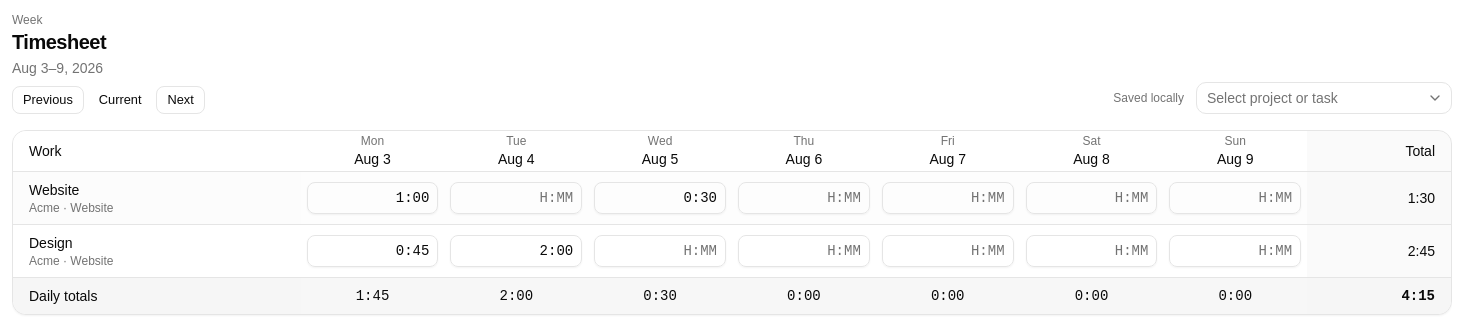
Test: previews valid drafts in row, day, and grand totals before commit
Replace the text in the field named "Acme · Website · Mon Aug 3" with "2:00" at [372, 198], box x1=307 y1=182 x2=438 y2=214
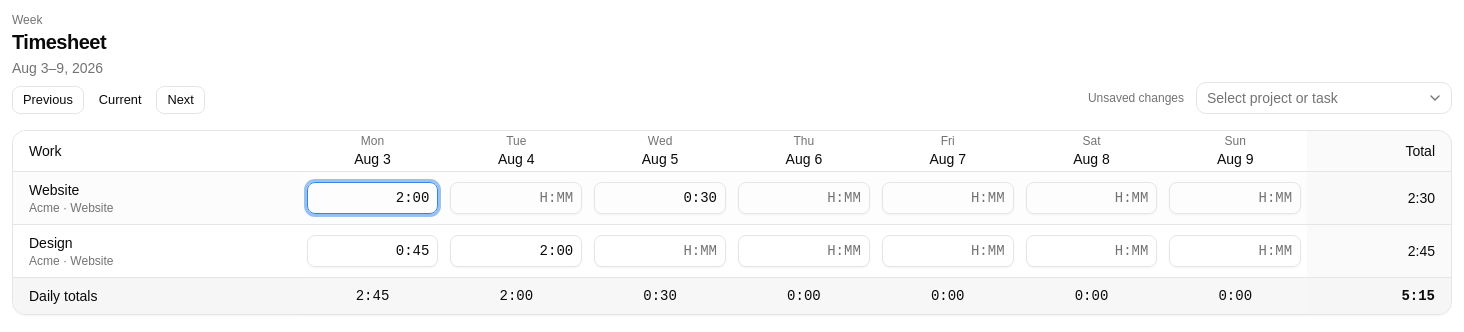
Now the text "2:30" is shown, box x1=1307 y1=171 x2=1451 y2=224
Now the cell "2:45" in the row of "Daily totals" is shown, box x1=356 y1=288 x2=389 y2=304
Now the cell "5:15" is shown, box x1=1307 y1=277 x2=1451 y2=314
